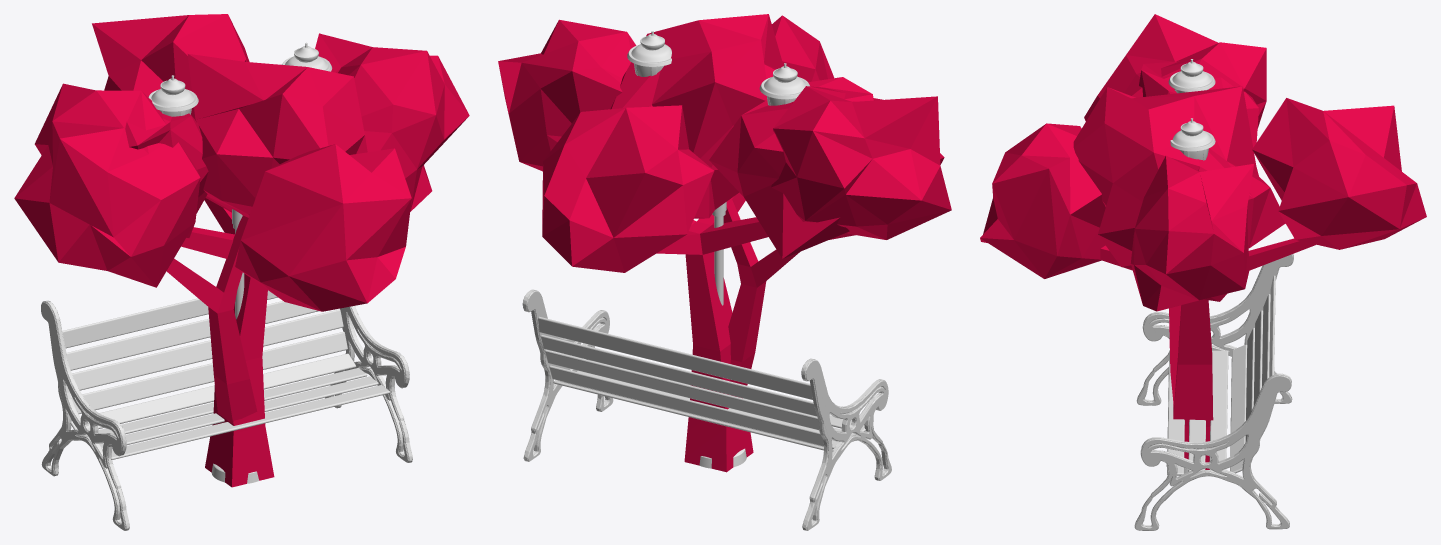
File: MDL_Environment.fbx
3 views of the same model, side by side, from view 1: azimuth 30°, elevation 25°; view 2: azimuth 150°, elevation 25°; view 3: azimuth 270°, elevation 25° (orthographic). The views are drawn at different scales.
Parts seen in each view (by area): view 1: MDL_Tree_02, MDL_Tree_01, MDL_Banco, MDL_Lamp; view 2: MDL_Tree_02, MDL_Tree_01, MDL_Banco, MDL_Lamp; view 3: MDL_Tree_02, MDL_Tree_01, MDL_Banco, MDL_Lamp.
Boxes of the visible parts, x1,y1,x2,y2 form: MDL_Tree_02: (92, 14, 469, 487); MDL_Tree_01: (14, 54, 367, 424); MDL_Banco: (41, 290, 412, 530); MDL_Lamp: (148, 42, 332, 483); MDL_Tree_02: (498, 15, 873, 472); MDL_Tree_01: (610, 14, 951, 397); MDL_Banco: (522, 289, 891, 530); MDL_Lamp: (627, 31, 809, 468); MDL_Tree_02: (980, 61, 1426, 469); MDL_Tree_01: (1073, 14, 1285, 406); MDL_Banco: (1134, 254, 1293, 530); MDL_Lamp: (1166, 59, 1215, 473).
Size of what is drawn, in the model's own units: 591 by 546 by 583.
